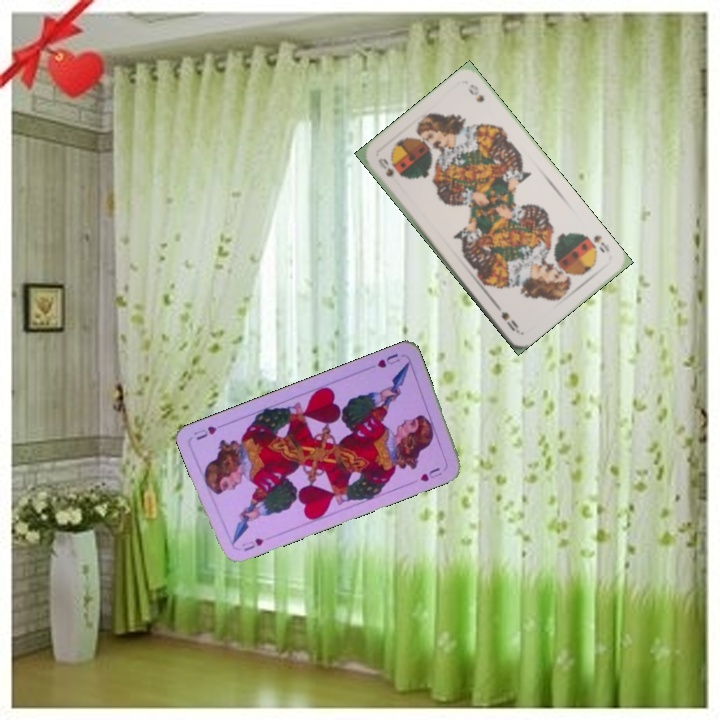HU: (373, 349, 402, 370), (239, 534, 267, 554)
SO: (374, 154, 397, 180), (589, 231, 612, 256)
